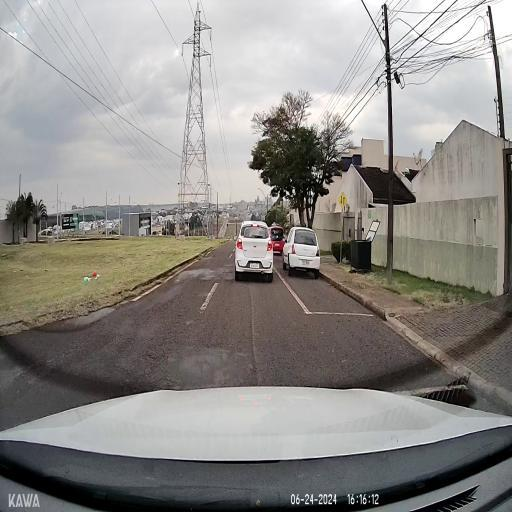A-25: (338, 193, 348, 206)
